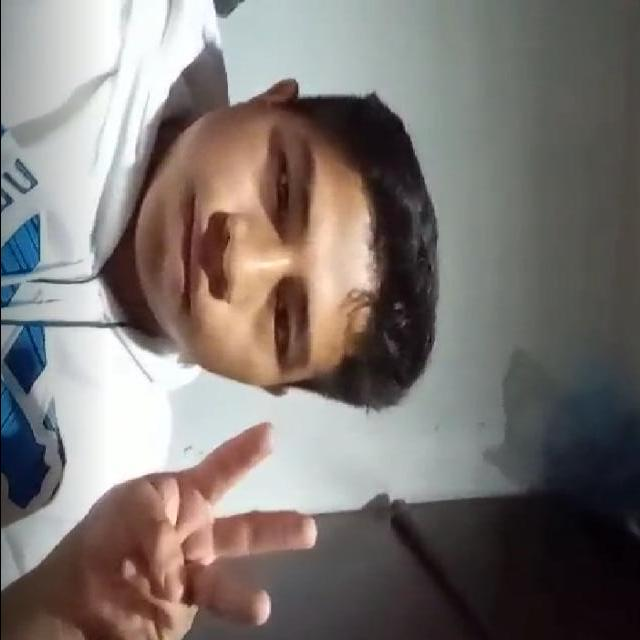W: (44, 412, 352, 640)
